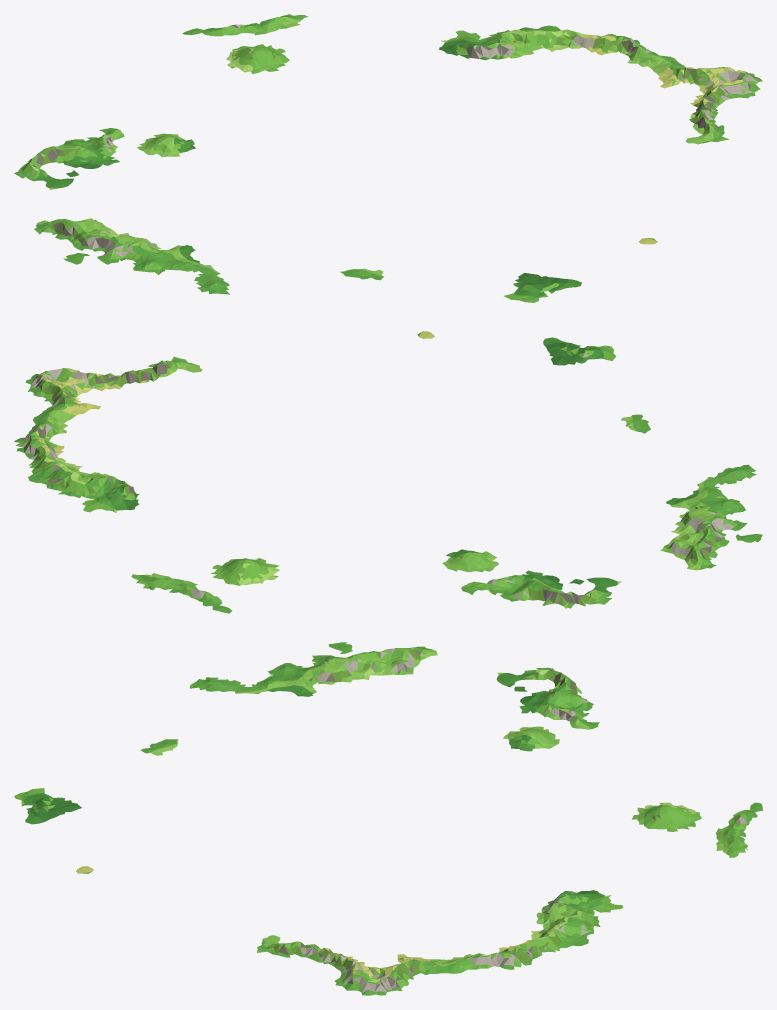
Rendered from Isl-start2-Relief.fbx.
3 views of the same model, one above another, from view 1: azimuth 30°, elevation 25°; view 2: azimuth 150°, elevation 25°; view 3: azimuth 270°, elevation 25° (orthographic). The views are drawn at different scales.
Visible parts, largest first — view 1: Isl-start2-Relief-c22, Isl-start2-Relief-c12, Isl-start2-Relief-c11, Isl-start2-Relief-c21, Isl-start2-Relief-c32, Isl-start2-Relief-c31; view 2: Isl-start2-Relief-c22, Isl-start2-Relief-c12, Isl-start2-Relief-c11, Isl-start2-Relief-c21, Isl-start2-Relief-c32, Isl-start2-Relief-c31; view 3: Isl-start2-Relief-c22, Isl-start2-Relief-c12, Isl-start2-Relief-c11, Isl-start2-Relief-c32, Isl-start2-Relief-c21, Isl-start2-Relief-c31.
Part boxes in pixels (x1,y1,x2,y2): Isl-start2-Relief-c22: [202, 14, 684, 88]; Isl-start2-Relief-c12: [14, 56, 249, 243]; Isl-start2-Relief-c11: [72, 230, 548, 302]; Isl-start2-Relief-c21: [525, 94, 729, 293]; Isl-start2-Relief-c32: [634, 39, 754, 89]; Isl-start2-Relief-c31: [699, 72, 762, 104]; Isl-start2-Relief-c22: [15, 401, 279, 604]; Isl-start2-Relief-c12: [254, 534, 720, 608]; Isl-start2-Relief-c11: [554, 345, 756, 546]; Isl-start2-Relief-c21: [94, 331, 580, 390]; Isl-start2-Relief-c32: [14, 374, 86, 442]; Isl-start2-Relief-c31: [31, 368, 107, 392]; Isl-start2-Relief-c22: [397, 804, 749, 966]; Isl-start2-Relief-c12: [373, 647, 686, 808]; Isl-start2-Relief-c11: [14, 648, 375, 807]; Isl-start2-Relief-c32: [374, 956, 520, 995]; Isl-start2-Relief-c21: [25, 804, 364, 966]; Isl-start2-Relief-c31: [334, 957, 375, 995].
Bounding box in the file's own units: 149 × 2.58 × 133.
